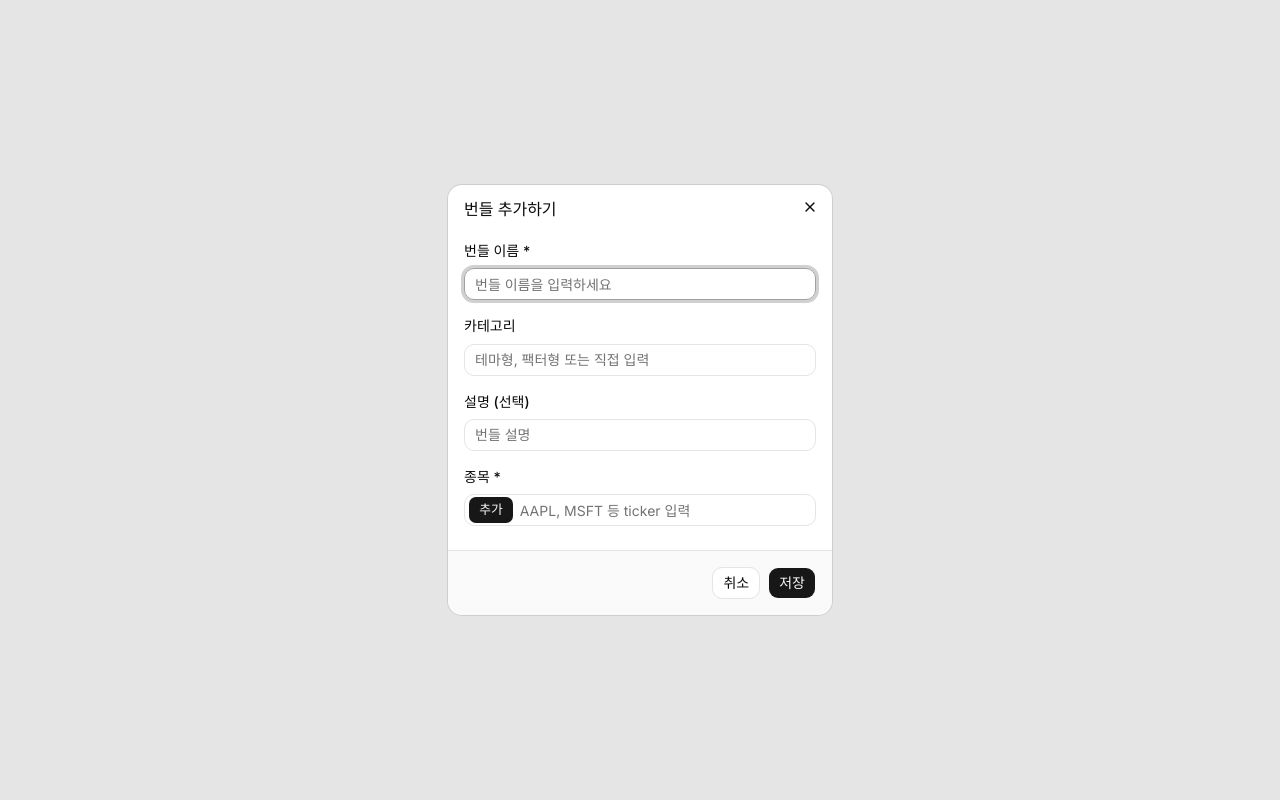
Test: CreateBundleDialog — 유효성 검사 › 이름 미입력 시 저장하면 안내 메시지가 표시된다
Click the button "저장" at (792, 583), box [768,567,816,599]
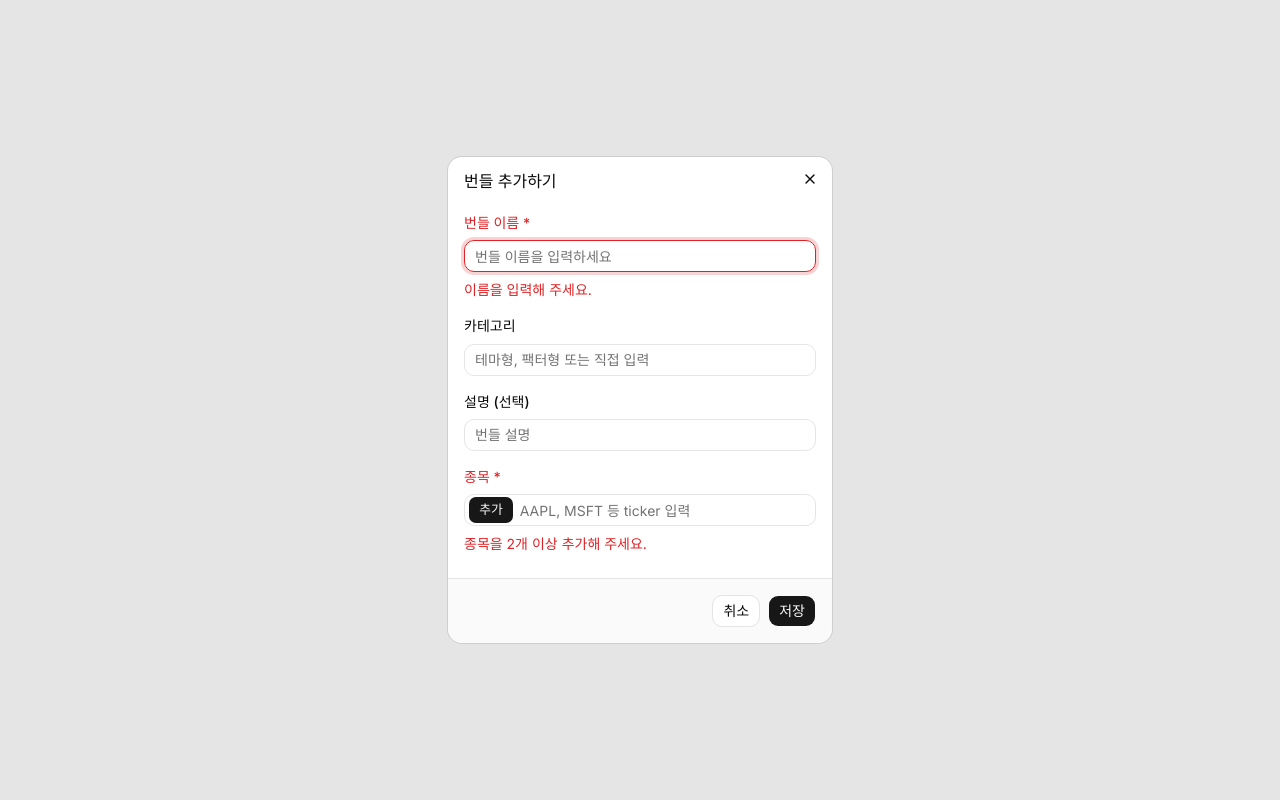
Check: the text "이름을 입력해 주세요." is shown, box [464,281,592,298]
